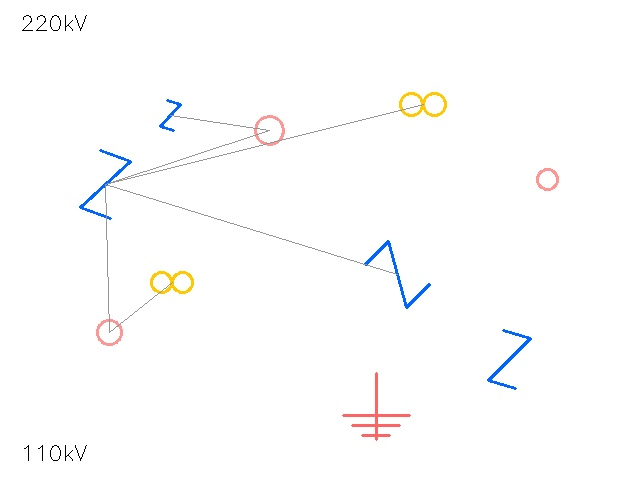circuit_breaker: (364, 241, 430, 307), (72, 151, 138, 217), (480, 330, 538, 388), (155, 100, 185, 130)
fuse: (85, 308, 133, 356)
ground: (343, 373, 409, 439)
transformer_2w: (395, 76, 451, 132), (146, 256, 198, 308)
voltage_transformer: (241, 102, 297, 158), (526, 158, 568, 200)
